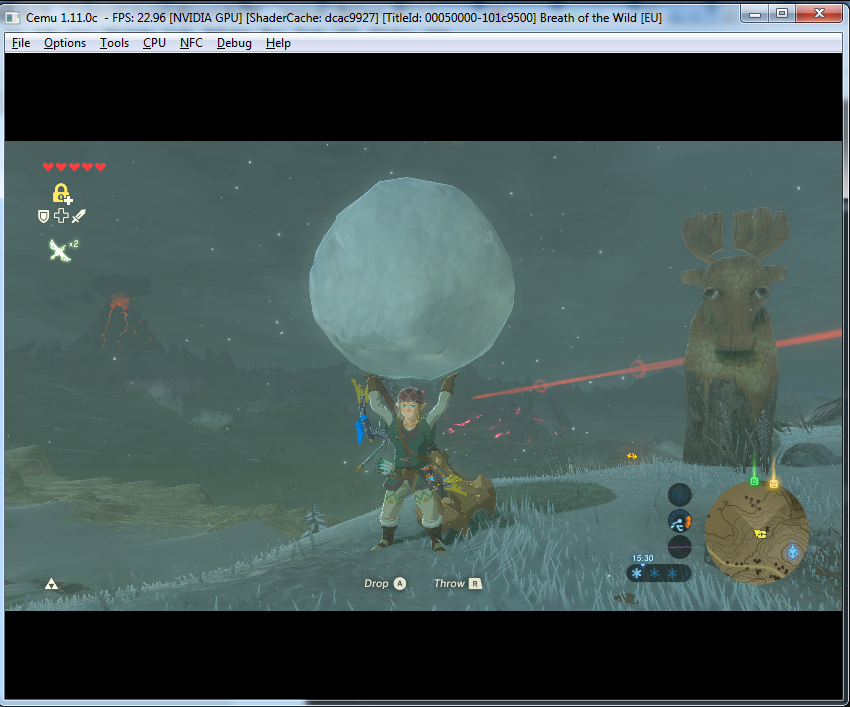link: (339, 356, 512, 553)
snowball: (299, 174, 521, 386)
totem: (676, 204, 794, 474)
